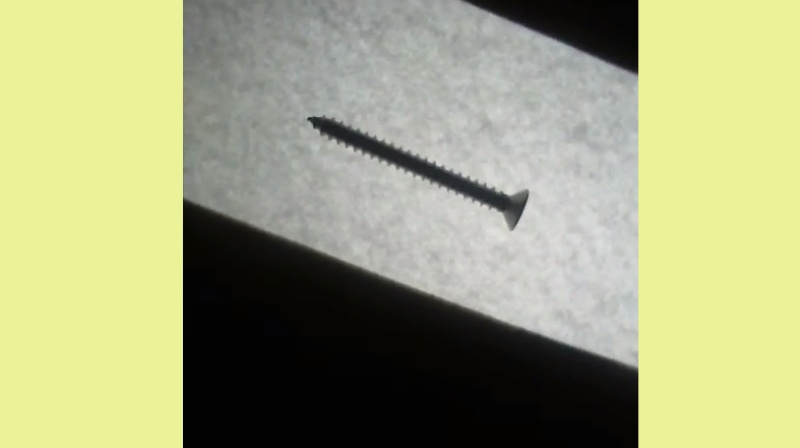S002: (301, 112, 529, 233)
